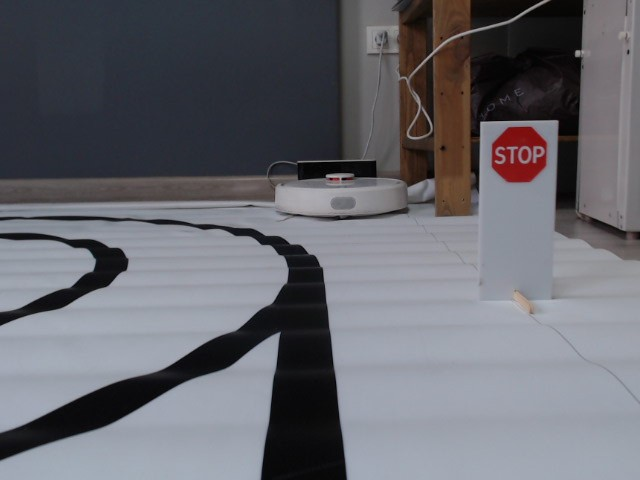Stop: (486, 126, 543, 181)
